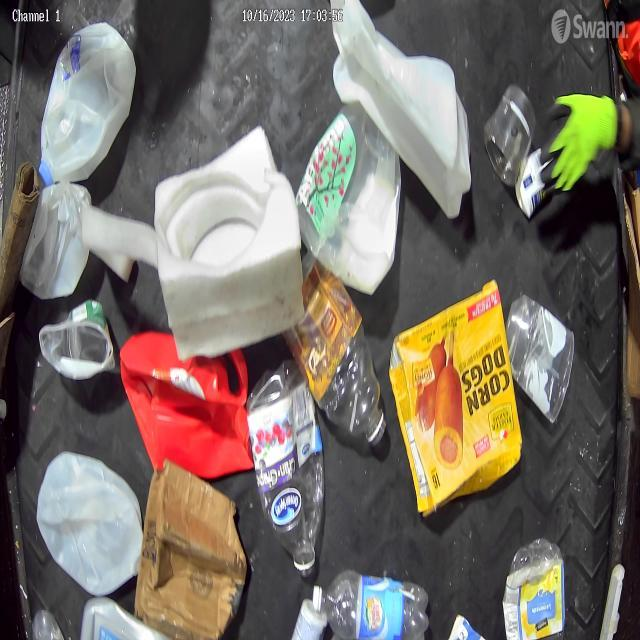milk_jug: (332, 0, 472, 216), (38, 23, 140, 186), (36, 443, 145, 583)
non_white_jug: (118, 314, 255, 476)
plastic_bottle: (294, 262, 394, 452), (248, 362, 322, 564), (313, 567, 433, 640), (502, 535, 576, 640)
